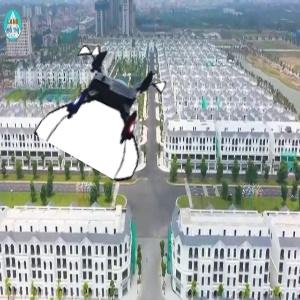drone: (48, 49, 167, 168)
